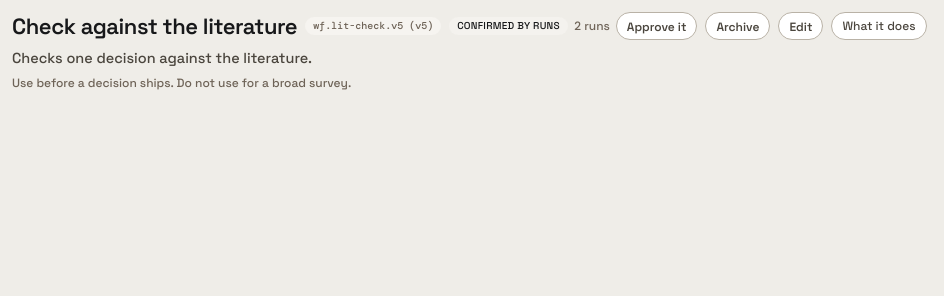
Test: WorkflowHeader › an empty title shows the backend's own sentence, and stays in edit
Click the button "Edit" at (801, 26), box [778, 12, 823, 40]
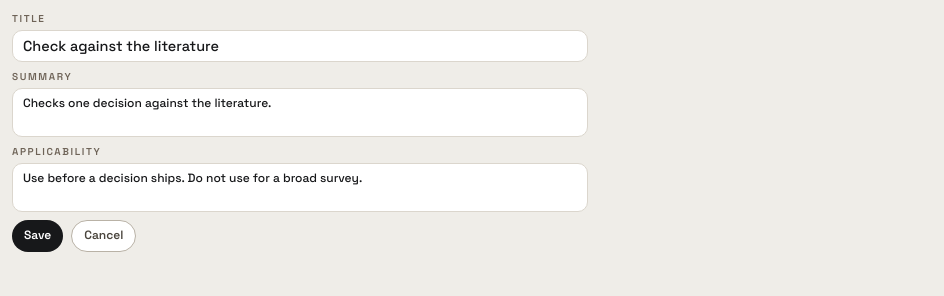
Clear the field named "Title" at (300, 46), box [12, 30, 588, 62]
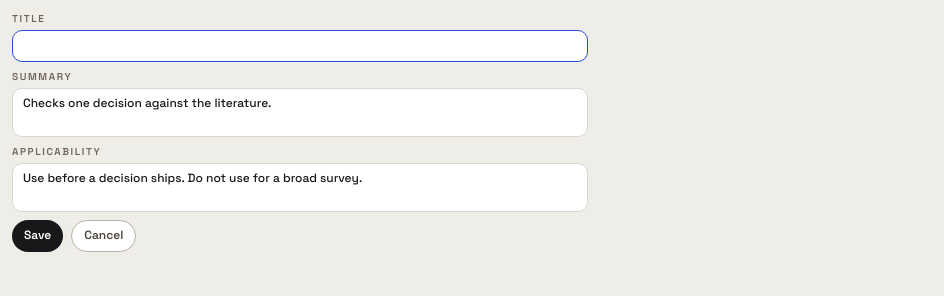
Click the button "Save" at (38, 236), box [12, 220, 63, 252]
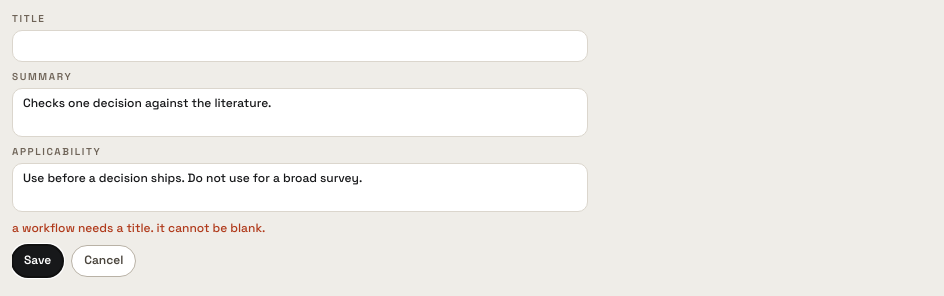
Result: the button "Save" is shown at [12, 245, 63, 277]
Result: the text "a workflow needs a title. it cannot be blank." is shown at [12, 220, 265, 236]
